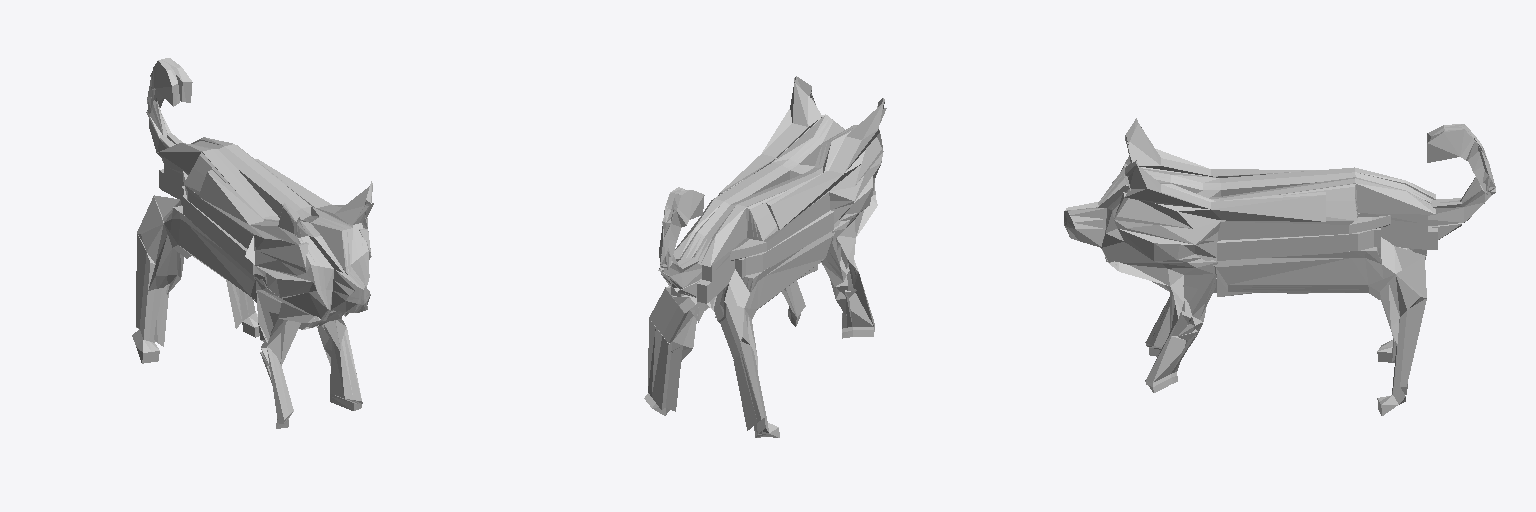
File: husky.obj
3 views of the same model, side by side, from view 1: azimuth 30°, elevation 25°; view 2: azimuth 150°, elevation 25°; view 3: azimuth 270°, elevation 25° (orthographic).
Parts seen in each view (by area): view 1: Cube; view 2: Cube; view 3: Cube.
Part boxes in pixels (x1,y1,x2,y2): Cube: (132,58,373,428); Cube: (644,76,886,437); Cube: (1064,118,1495,415).
Bounding box in the file's own units: 2.5 × 4.92 × 7.43.